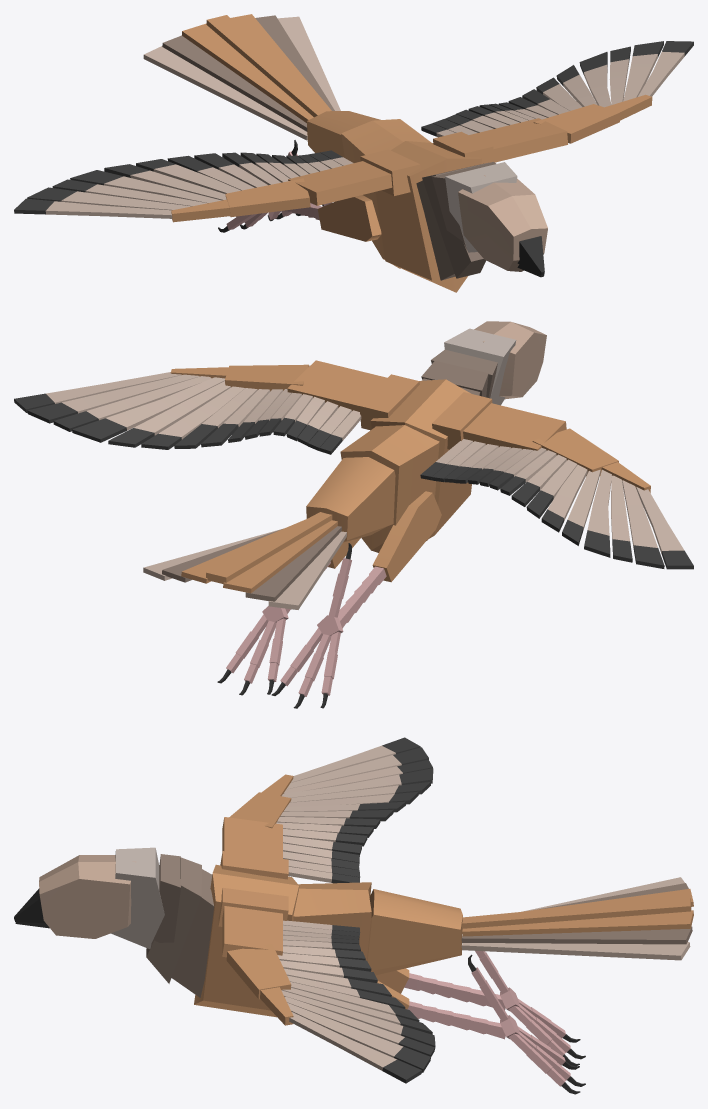
Rendered from Bird_InFlight.fbx.
The picture shows the model from 3 angles, top to bottom: view 1: azimuth 30°, elevation 25°; view 2: azimuth 150°, elevation 25°; view 3: azimuth 270°, elevation 25°; orthographic projection. The views are drawn at different scales.
Parts seen in each view (by area): view 1: wings, bodypart82, bodypart87, bodypart79, bodypart1, bodypart90, bodypart92, bodypart3, bodypart59, bodypart91, bodypart80, bodypart40 (+14 smaller); view 2: wings, bodypart2, bodypart3, bodypart82, bodypart79, bodypart40, bodypart87, bodypart59, bodypart1, bodypart84, bodypart90, bodypart60 (+11 smaller); view 3: wings, bodypart87, bodypart2, bodypart82, bodypart3, bodypart84, bodypart1, bodypart93, bodypart95, bodypart94, bodypart83, bodypart85 (+14 smaller).
Boxes of the visible parts, box(x1,y1,x2,y2) form: wings: box(14, 41, 693, 218); bodypart82: box(375, 141, 481, 292); bodypart87: box(458, 175, 547, 271); bodypart79: box(288, 161, 392, 205); bodypart1: box(206, 15, 328, 117); bodypart90: box(182, 23, 313, 122); bodypart92: box(143, 46, 307, 140); bodypart3: box(341, 119, 431, 268); bodypart59: box(469, 118, 567, 162); bodypart91: box(162, 35, 307, 131); bodypart80: box(225, 178, 310, 217); bodypart40: box(317, 195, 381, 241); wings: box(14, 372, 693, 569); bodypart2: box(306, 457, 395, 542); bodypart3: box(340, 425, 439, 552); bodypart82: box(371, 379, 471, 538); bodypart79: box(463, 403, 566, 450); bodypart40: box(372, 491, 441, 582); bodypart87: box(474, 321, 546, 399); bodypart59: box(287, 360, 387, 411); bodypart1: box(206, 512, 332, 583); bodypart84: box(444, 328, 516, 405); bodypart90: box(223, 520, 337, 593); bodypart60: box(225, 364, 309, 391); wings: box(276, 737, 435, 1083); bodypart87: box(39, 855, 135, 938); bodypart2: box(367, 889, 462, 975); bodypart82: box(194, 864, 299, 1017); bodypart3: box(293, 882, 371, 961); bodypart84: box(111, 847, 164, 949); bodypart1: box(462, 896, 691, 930); bodypart93: box(462, 910, 693, 936); bodypart95: box(461, 942, 690, 960); bodypart94: box(461, 926, 692, 944); bodypart83: box(171, 869, 214, 997); bodypart85: box(146, 857, 201, 983).
Bounding box in the file's own units: 0.729 × 0.209 × 0.6086.
